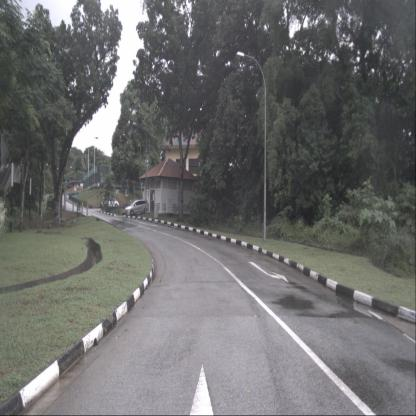vehicle-car: (124, 199, 149, 216), (101, 196, 119, 208)
